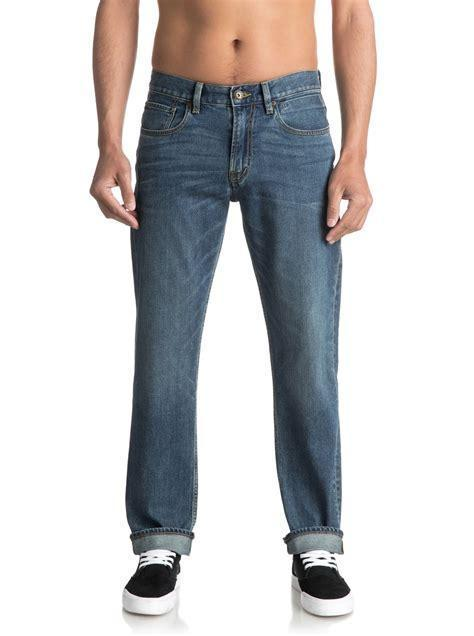pants: (122, 66, 346, 562)
